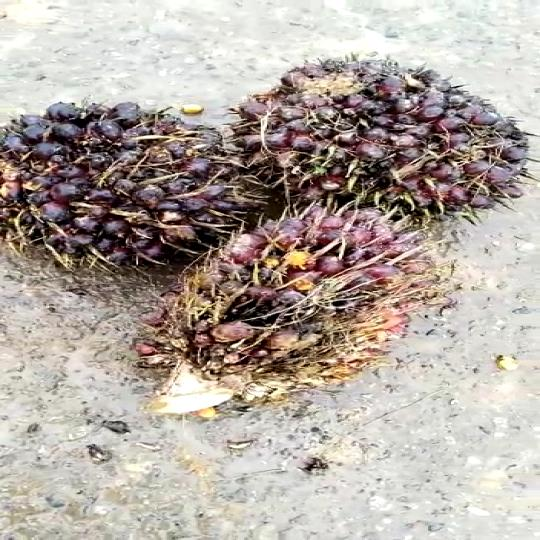kurang masak: (134, 210, 455, 422), (225, 57, 540, 226), (0, 75, 258, 267)
